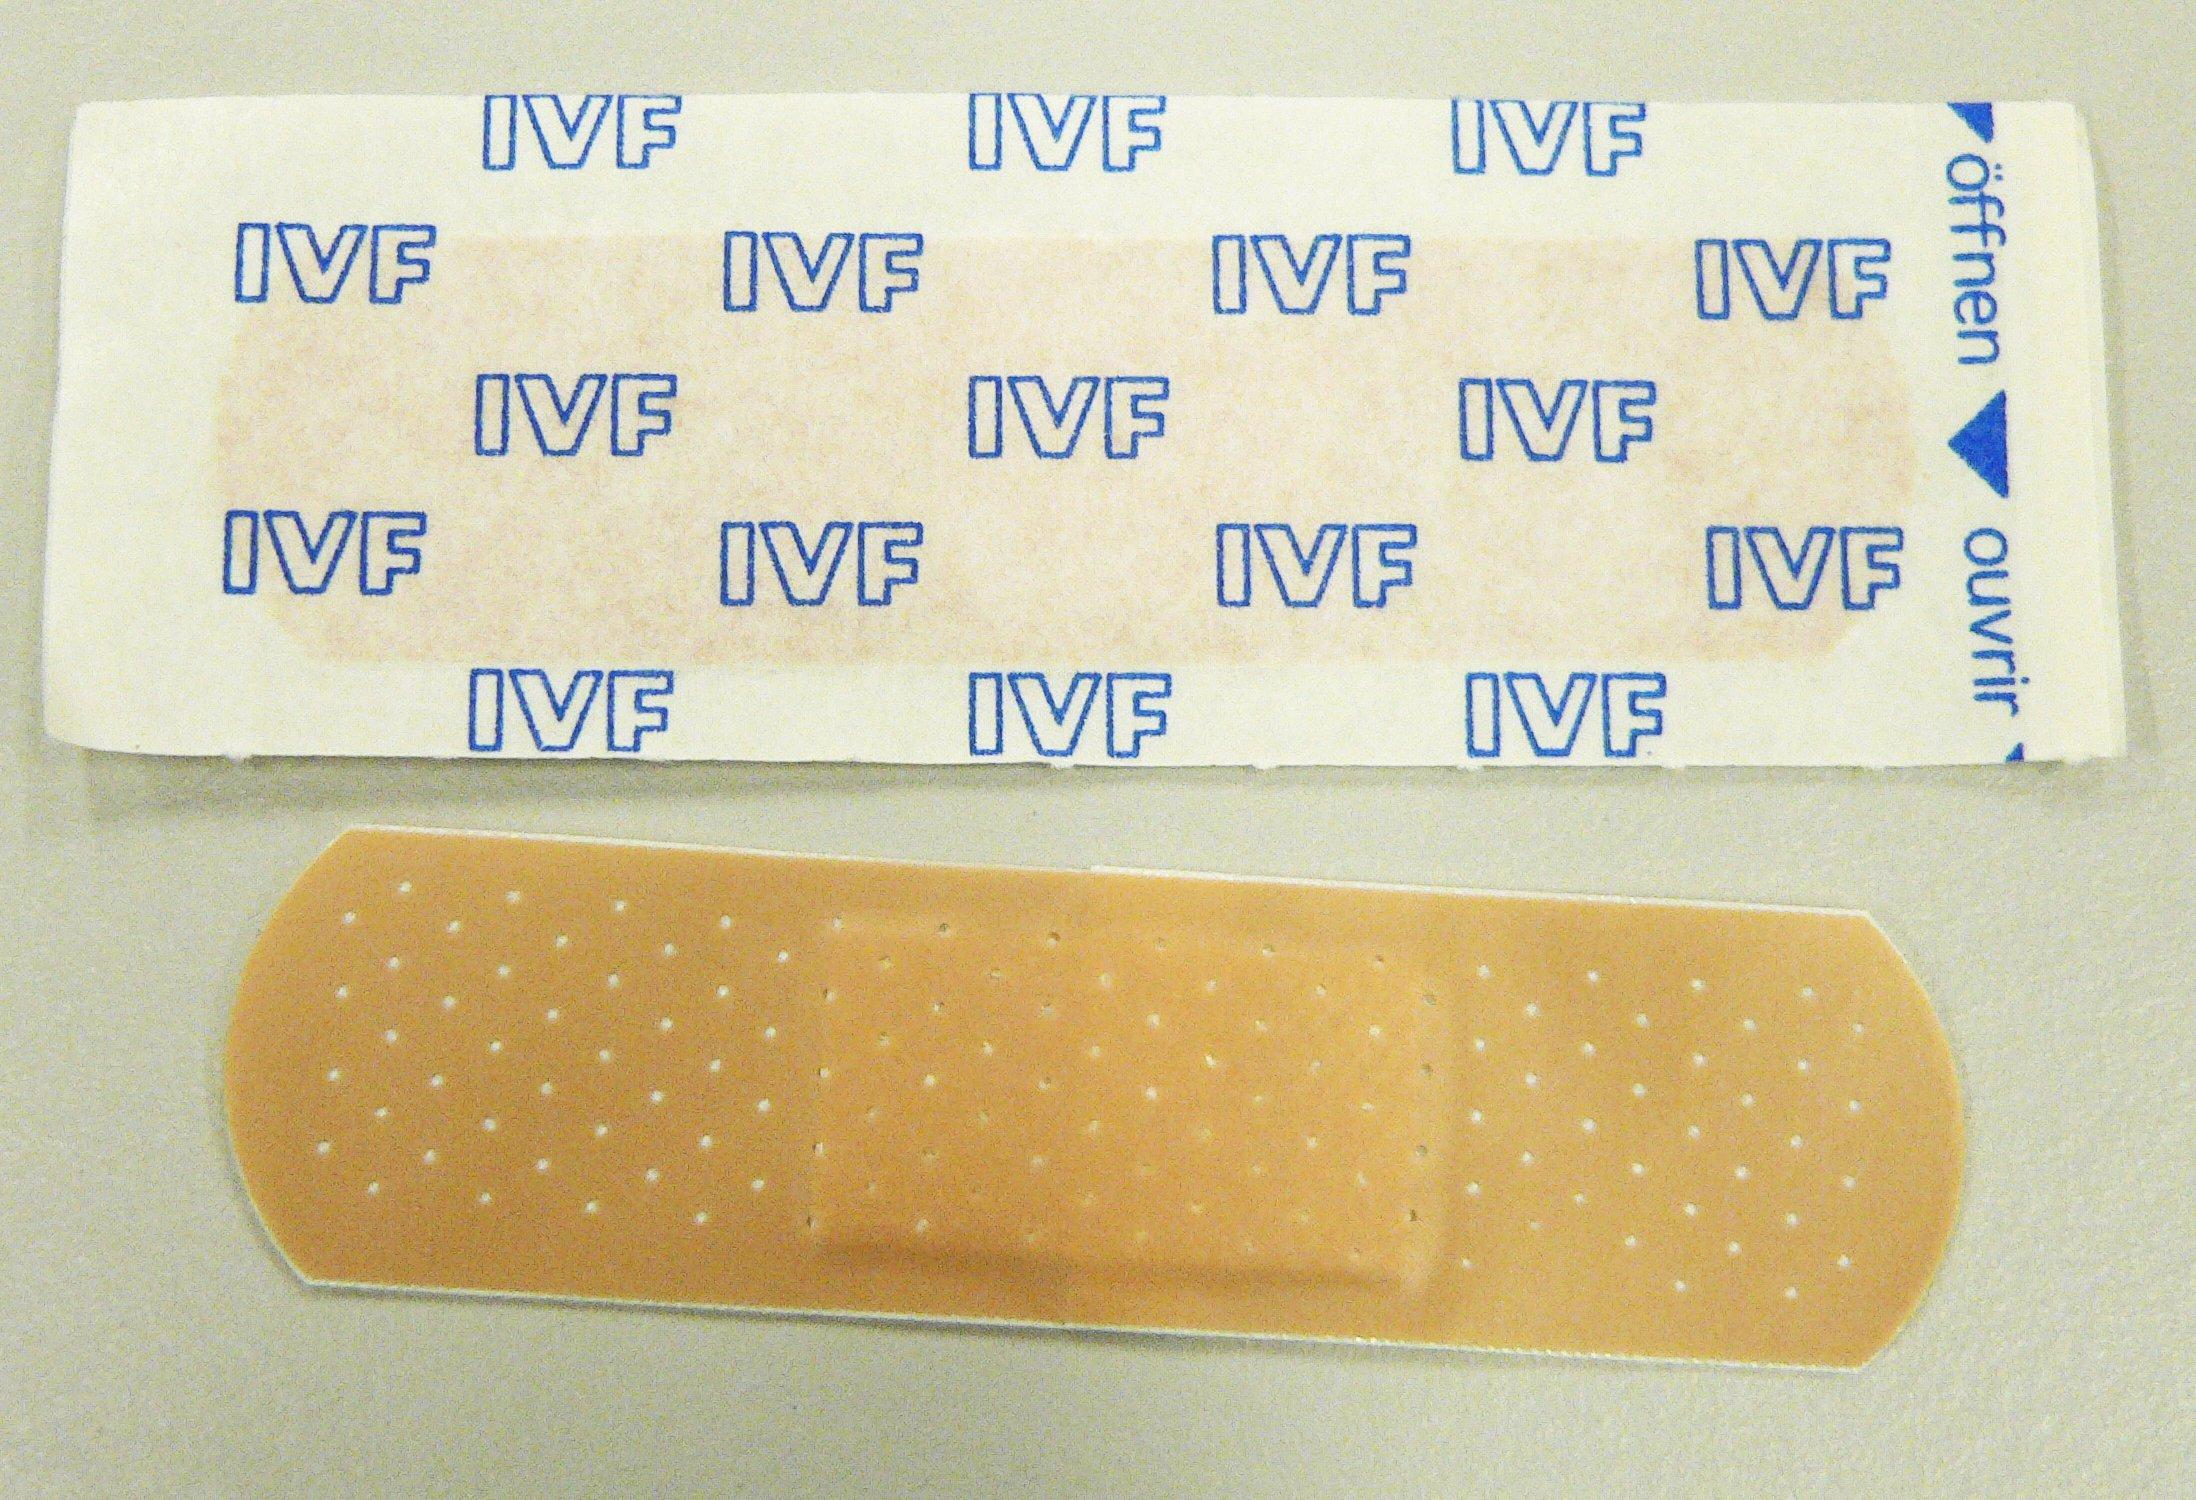bandage: (53, 93, 2123, 771), (217, 831, 1962, 1375)
